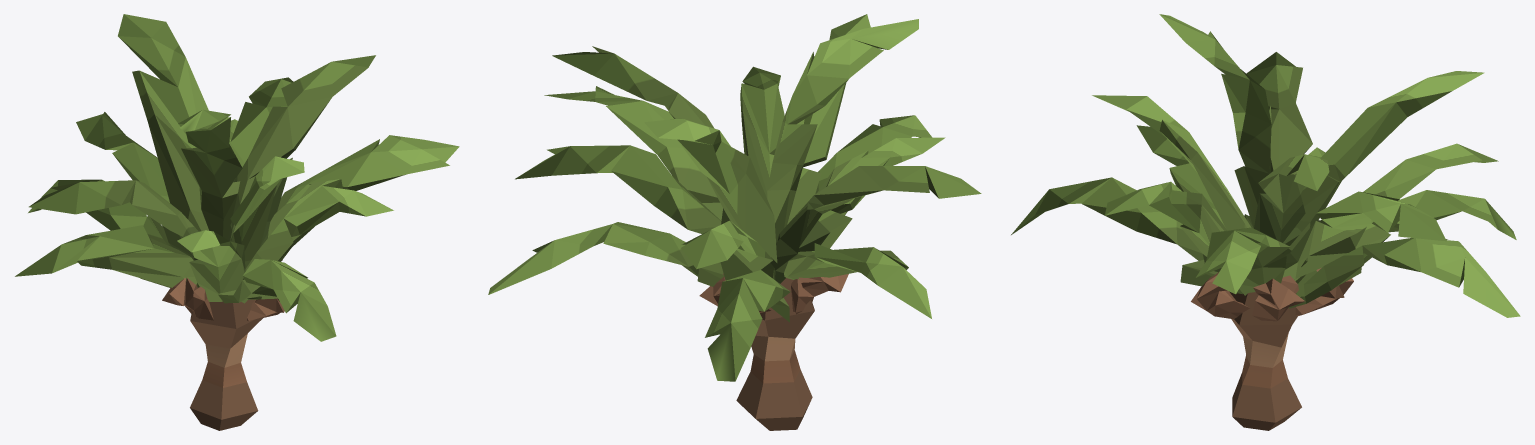
The model's file is SM_Env_Tree_Bush_01.glb.
3 views of the same model, side by side, from view 1: azimuth 30°, elevation 25°; view 2: azimuth 150°, elevation 25°; view 3: azimuth 270°, elevation 25° (orthographic). The views are drawn at different scales.
Parts seen in each view (by area): view 1: SM_Env_Tree_Bush_01; view 2: SM_Env_Tree_Bush_01; view 3: SM_Env_Tree_Bush_01.
Part boxes in pixels (x1=…): SM_Env_Tree_Bush_01: x1=15, y1=14, x2=459, y2=430; SM_Env_Tree_Bush_01: x1=488, y1=14, x2=981, y2=430; SM_Env_Tree_Bush_01: x1=1011, y1=14, x2=1520, y2=430.
Bounding box in the file's own units: 2.51 × 2.02 × 2.52.
Materials: 1 (1 with a texture image).
